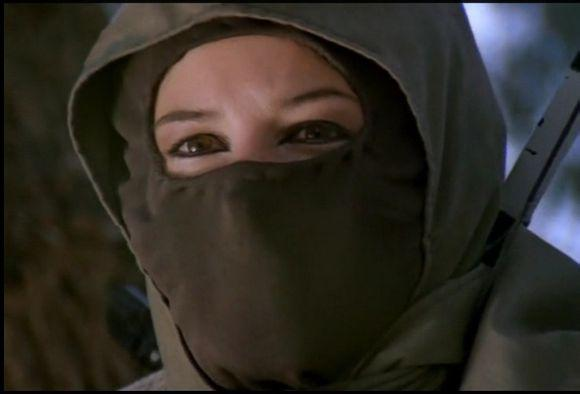OK: (159, 89, 394, 324)
